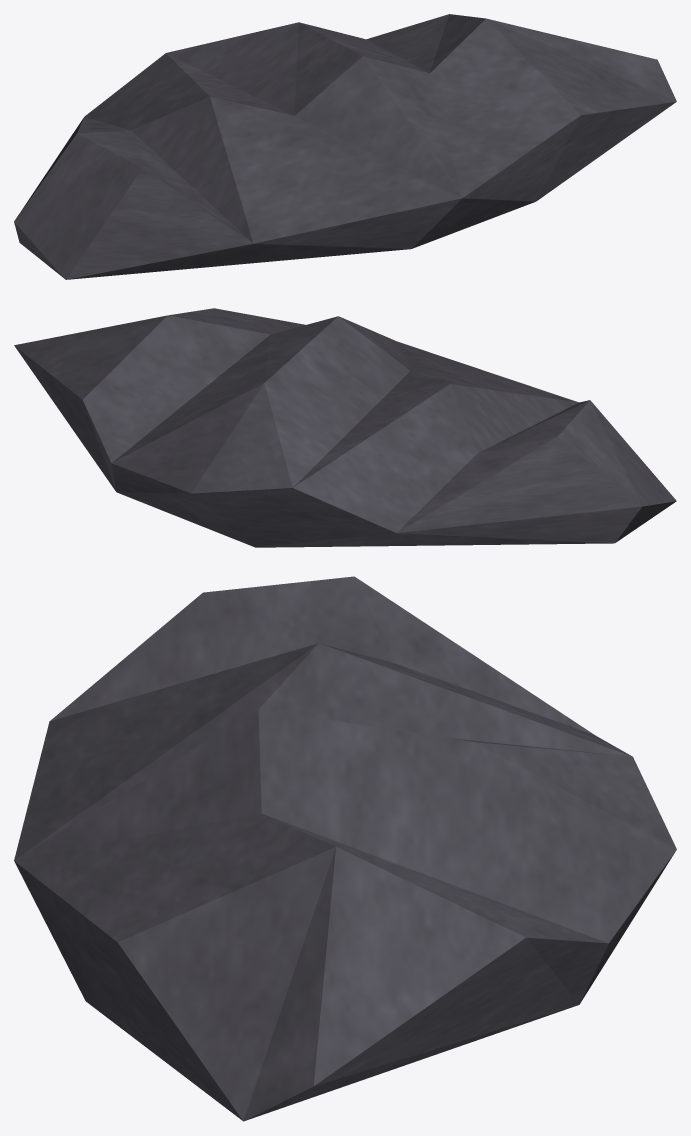
Rendered from volcanic_rope_lava_LOD1.glb.
The picture shows the model from 3 angles, top to bottom: view 1: azimuth 30°, elevation 25°; view 2: azimuth 150°, elevation 25°; view 3: azimuth 270°, elevation 25°; orthographic projection. The views are drawn at different scales.
Visible parts, largest first — view 1: volcanic_rope_lava_LOD1; view 2: volcanic_rope_lava_LOD1; view 3: volcanic_rope_lava_LOD1.
Part boxes in pixels (<box>): volcanic_rope_lava_LOD1: <box>14,14,676,279</box>; volcanic_rope_lava_LOD1: <box>14,308,676,547</box>; volcanic_rope_lava_LOD1: <box>14,576,676,1121</box>.
Size of the model in its own units: 2.63 by 0.52 by 1.53.
Materials: 1 (1 with a texture image).
